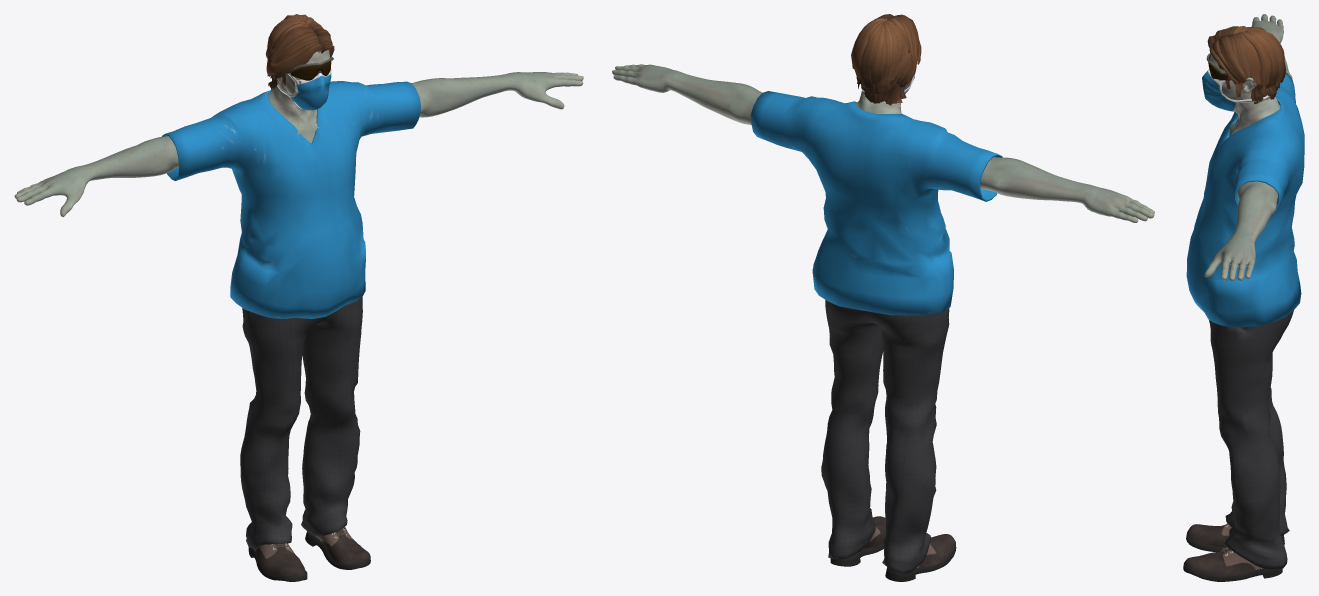
The model's file is Morty.obj.
3 renders of one model, left to right at view 1: azimuth 30°, elevation 25°; view 2: azimuth 150°, elevation 25°; view 3: azimuth 270°, elevation 25°, orthographic. The views are drawn at different scales.
Visible parts, largest first — view 1: Tops, Bottoms, Body, Shoes, Hair, Masks; view 2: Tops, Bottoms, Body, Hair, Shoes; view 3: Tops, Bottoms, Body, Hair, Shoes, Masks, Eyewear.
Part boxes in pixels (x1,y1,x2,y2): Tops: (162,81,420,318); Bottoms: (240,296,362,548); Body: (14,50,583,217); Shoes: (248,527,370,581); Hair: (266,14,334,91); Masks: (277,70,331,110); Tops: (750,91,1002,315); Bottoms: (821,300,949,573); Body: (612,64,1154,222); Hair: (851,14,921,105); Shoes: (830,516,956,581); Tops: (1186,72,1304,327); Bottoms: (1208,310,1293,569); Body: (1204,14,1292,280); Hair: (1207,26,1286,104); Shoes: (1183,523,1284,581); Masks: (1202,69,1270,111); Eyewear: (1206,53,1230,80).
Bounding box in the file's own units: 194 × 181 × 37.54.
1 material, 1 textured.
